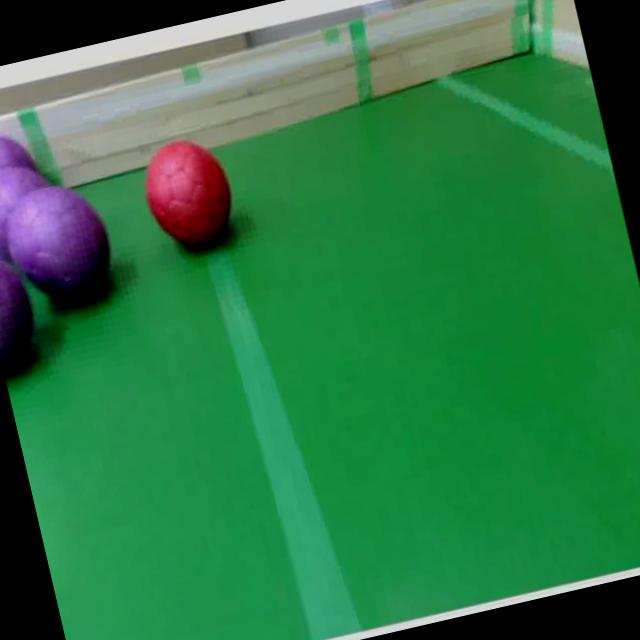purple_ball: (2, 178, 118, 310), (0, 155, 73, 266), (0, 241, 47, 377), (0, 127, 35, 200)
red_ball: (137, 138, 241, 258)
